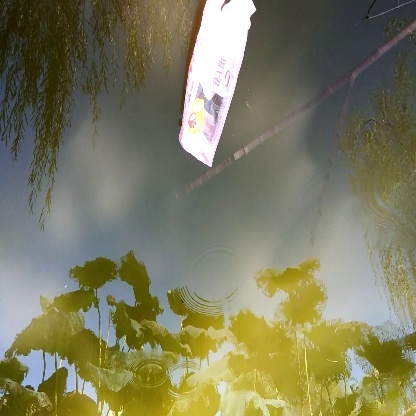plastic-bag: (178, 2, 259, 168)
